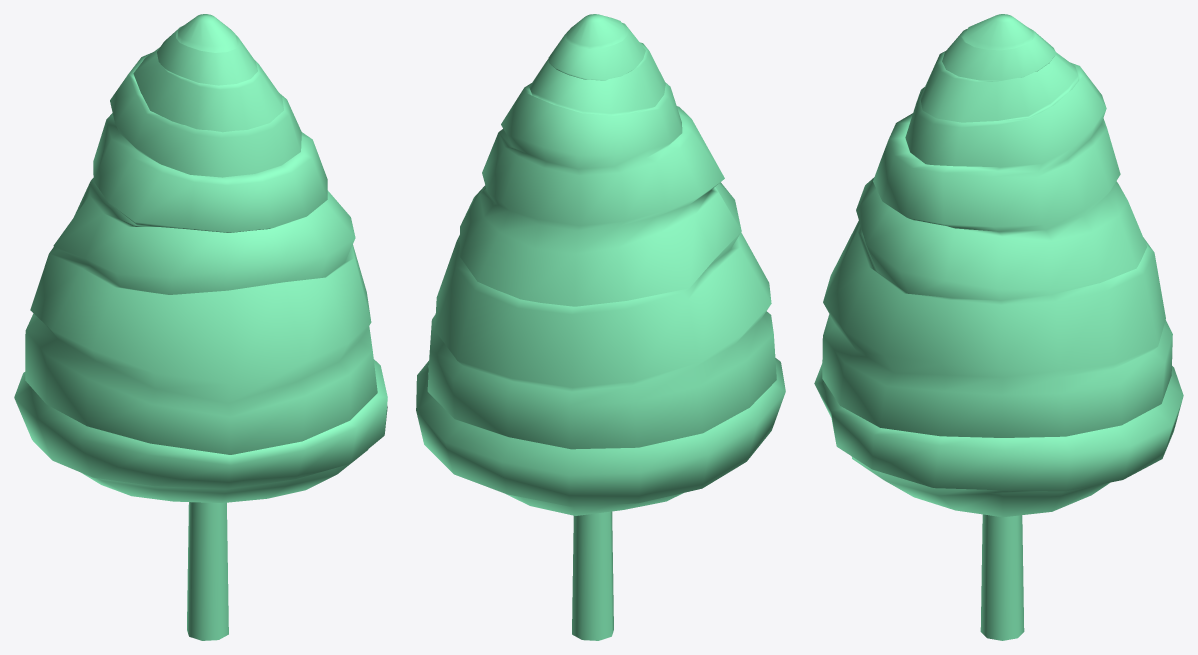
The model's file is TreeB1.fbx.
3 renders of one model, left to right at view 1: azimuth 30°, elevation 25°; view 2: azimuth 150°, elevation 25°; view 3: azimuth 270°, elevation 25°, orthographic.
Visible parts, largest first — view 1: Tree_B1; view 2: Tree_B1; view 3: Tree_B1.
Boxes of the visible parts, x1,y1,x2,y2 form: Tree_B1: (14, 14, 387, 640); Tree_B1: (416, 14, 785, 640); Tree_B1: (814, 14, 1183, 640).
Bounding box in the file's own units: 242 × 450 × 245.
